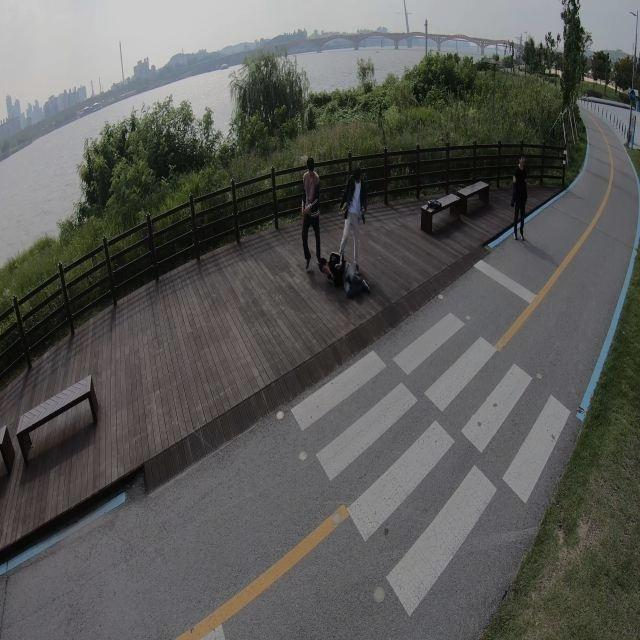fight: (321, 166, 371, 297)
non-fight: (301, 156, 325, 269)
